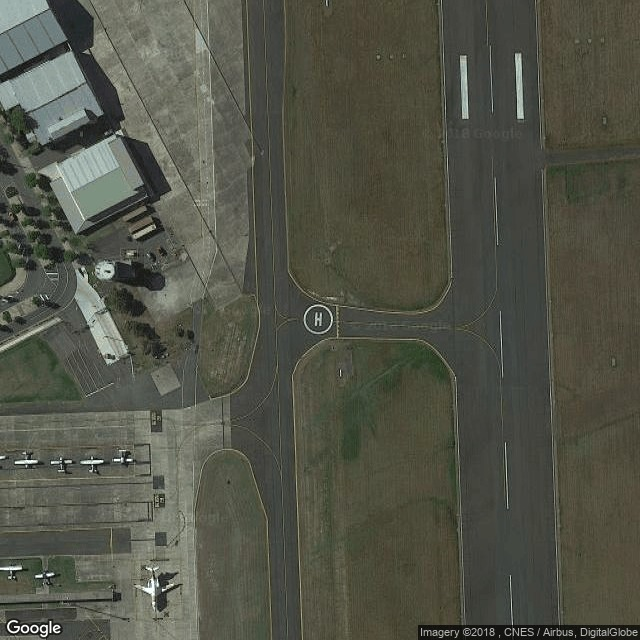heliport: (313, 309, 324, 327)
